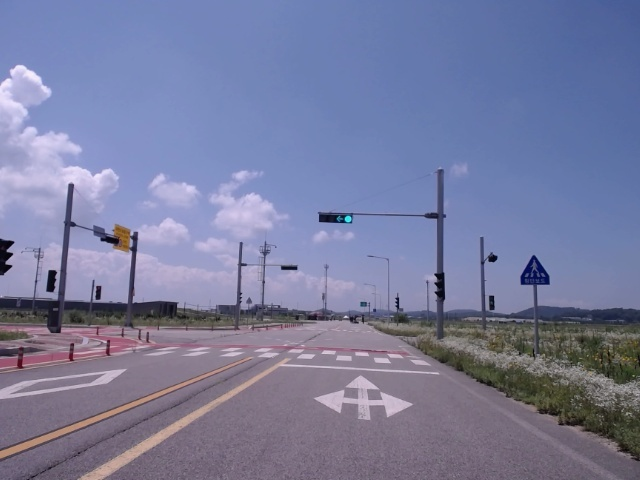all_green_4: (316, 213, 354, 223)
